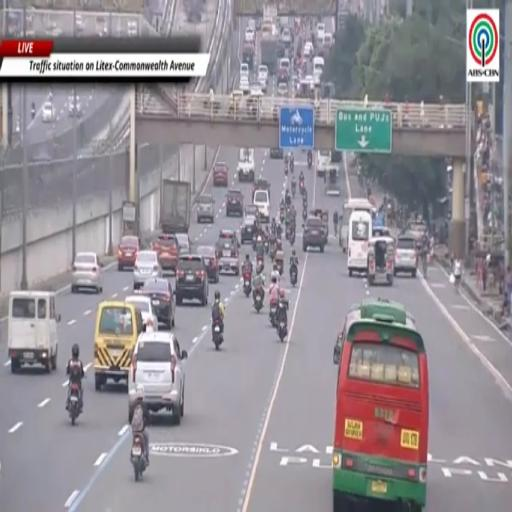bus: (333, 299, 428, 511), (339, 198, 372, 252), (347, 211, 372, 276), (325, 165, 340, 196)
car: (128, 331, 187, 424), (141, 278, 175, 329), (176, 254, 208, 306), (71, 252, 103, 293), (125, 294, 157, 329), (134, 250, 161, 290), (216, 230, 239, 276), (152, 233, 178, 271), (394, 235, 417, 277), (197, 246, 219, 283), (303, 216, 324, 252), (118, 235, 139, 270), (252, 189, 270, 222), (197, 195, 215, 222), (226, 189, 243, 216), (241, 216, 257, 244), (213, 163, 228, 186), (252, 176, 270, 195), (176, 233, 191, 254), (68, 96, 82, 117), (245, 204, 259, 223), (41, 102, 54, 122), (239, 76, 250, 94), (277, 82, 289, 97), (128, 21, 139, 37), (303, 41, 314, 57), (282, 27, 291, 46), (277, 71, 288, 86), (316, 23, 325, 41), (258, 75, 267, 93), (75, 14, 83, 34), (245, 27, 255, 43), (240, 62, 249, 78), (270, 148, 283, 158), (248, 20, 255, 30), (256, 19, 261, 29)
motorcycle: (131, 434, 146, 482), (68, 382, 80, 425), (213, 318, 223, 349), (277, 318, 287, 342), (243, 272, 251, 297), (254, 290, 263, 312), (269, 301, 276, 327), (289, 264, 297, 286), (422, 255, 428, 279), (289, 228, 296, 246), (276, 260, 284, 275), (256, 253, 263, 267), (285, 223, 291, 239), (270, 244, 275, 261), (256, 262, 263, 274), (264, 238, 269, 254), (291, 182, 296, 198), (252, 234, 257, 250), (276, 237, 282, 250), (277, 224, 282, 239), (300, 181, 305, 195), (302, 208, 307, 221), (303, 197, 308, 210), (290, 160, 294, 173), (308, 157, 312, 169), (280, 212, 284, 222), (285, 165, 288, 175)
truck: (160, 179, 190, 233), (261, 35, 278, 74), (243, 42, 254, 69)
